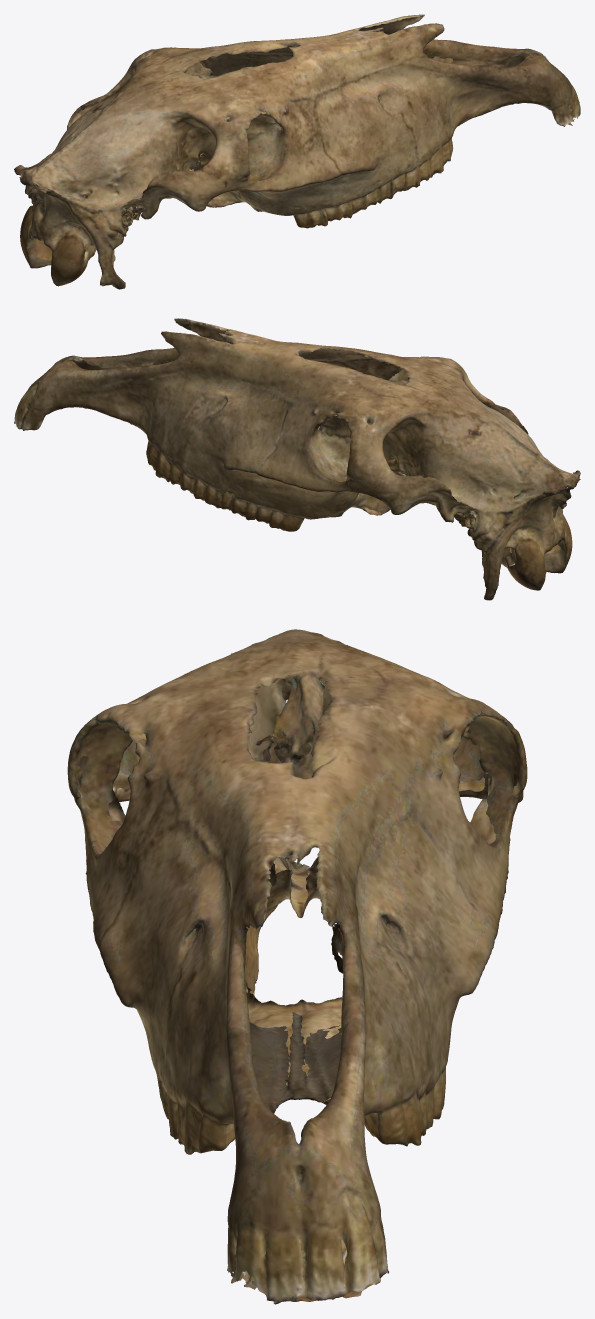
Rendered from horse.glb.
3 renders of one model, top to bottom at view 1: azimuth 30°, elevation 25°; view 2: azimuth 150°, elevation 25°; view 3: azimuth 270°, elevation 25°, orthographic. The views are drawn at different scales.
Parts seen in each view (by area): view 1: horse; view 2: horse; view 3: horse.
Part boxes in pixels (left/top/right/bottom): horse: left=14, top=14, right=580, bottom=289; horse: left=14, top=318, right=580, bottom=600; horse: left=67, top=629, right=527, bottom=1304.
Bounding box in the file's own units: 0.559 × 0.1697 × 0.2028.
Materials: 1 (1 with a texture image).
